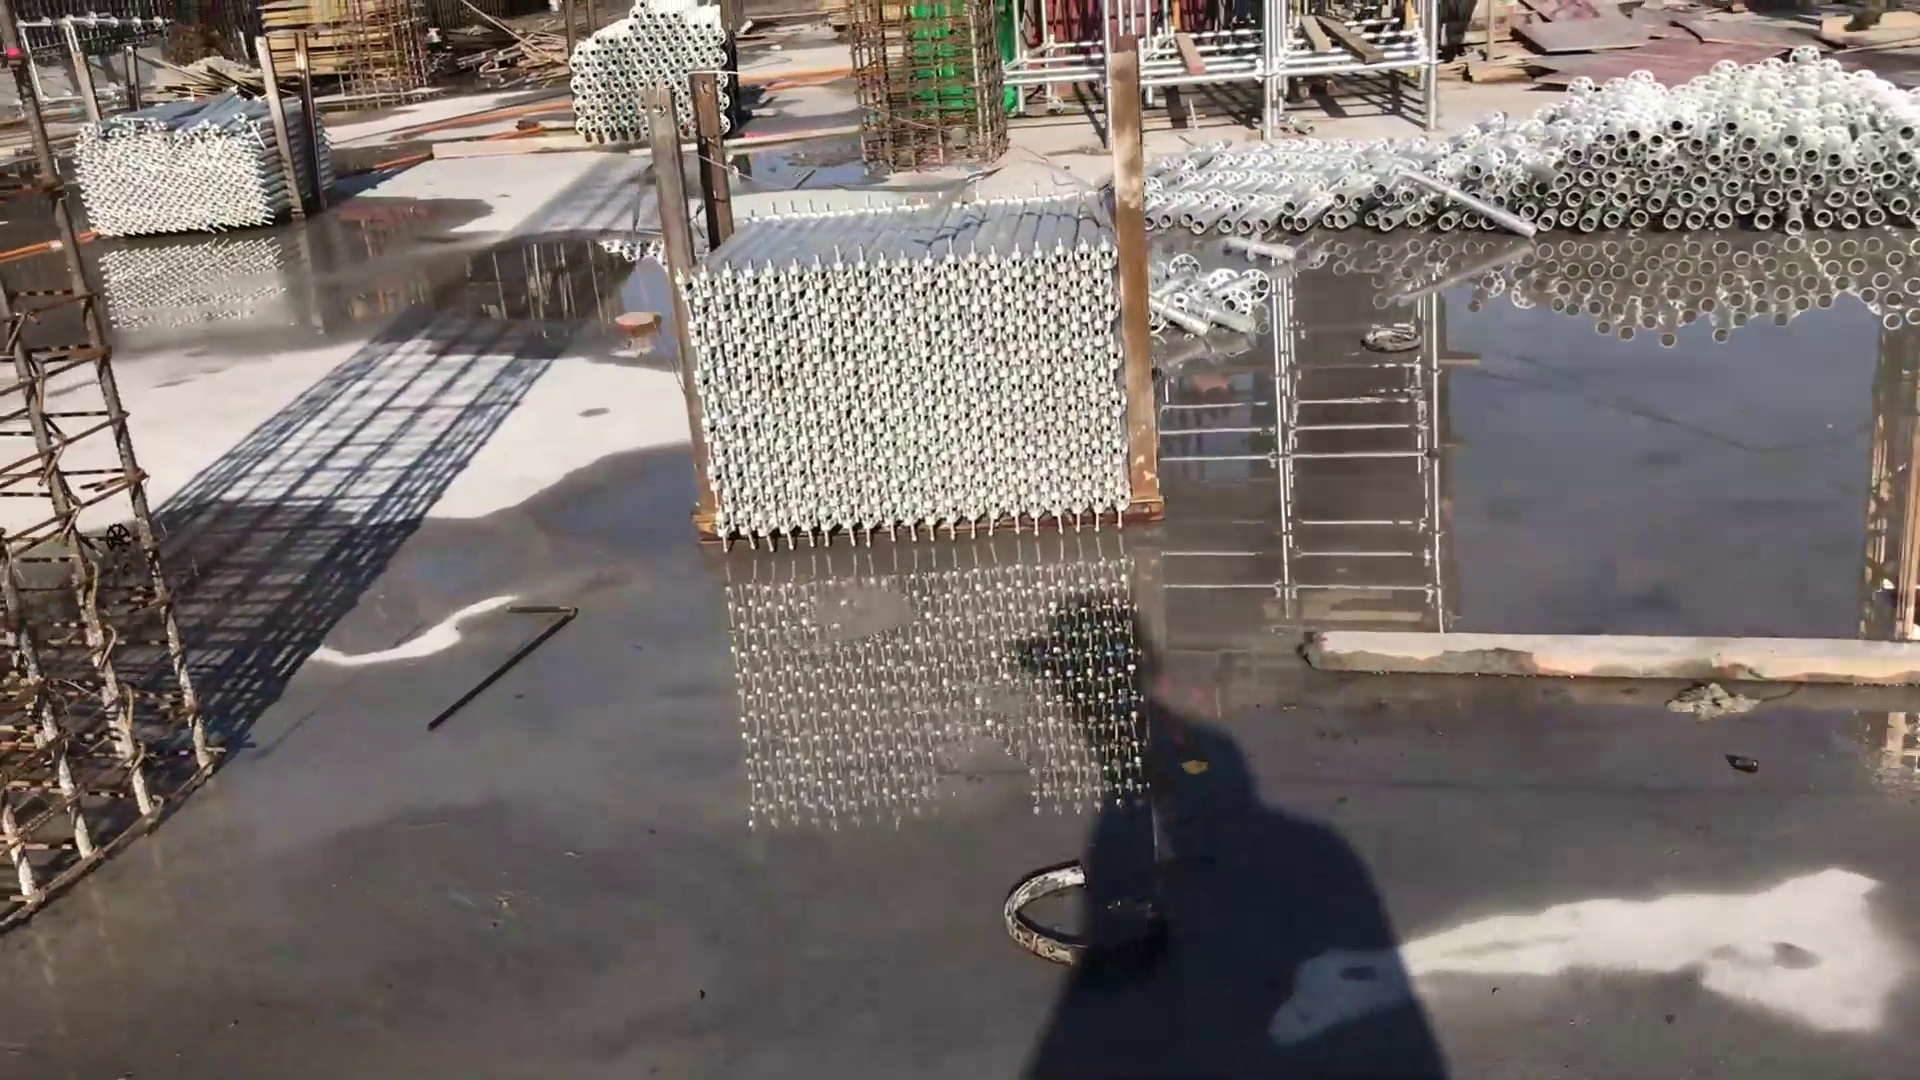scaffold: (665, 190, 1180, 567), (1156, 15, 1913, 256), (69, 69, 330, 262), (560, 1, 769, 171)
